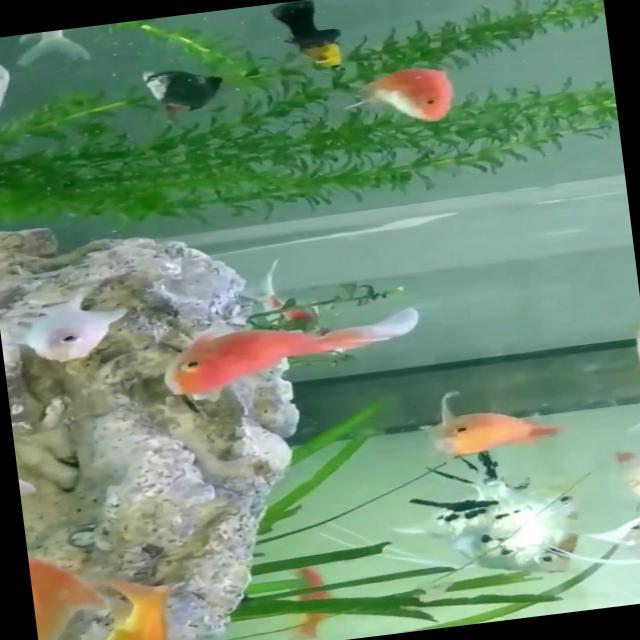GoldFish: (151, 281, 449, 404), (396, 380, 570, 470), (354, 53, 474, 134)
